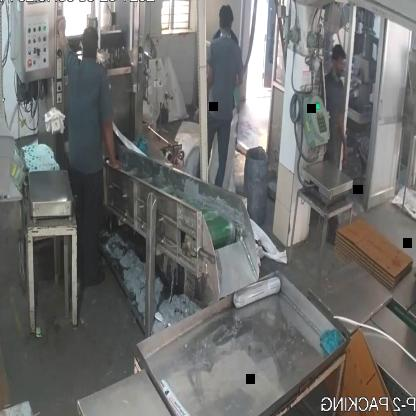no_glove: (100, 107, 125, 175), (50, 8, 75, 74)
